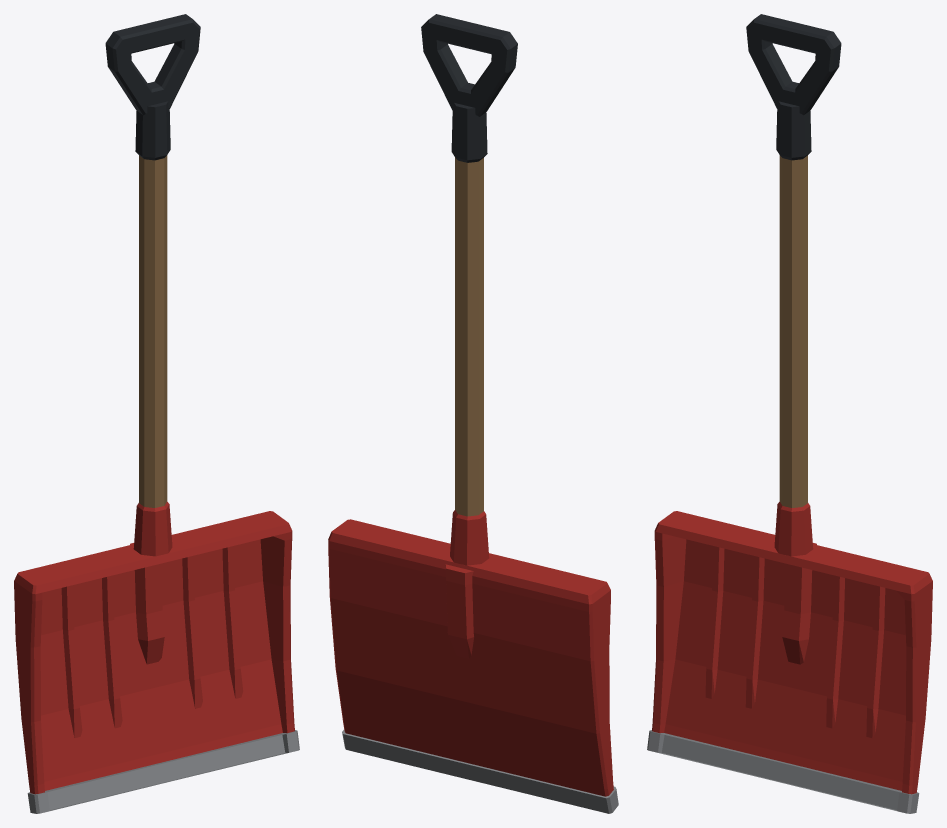
The model's file is snow-shovel-4196ff.glb.
3 views of the same model, side by side, from view 1: azimuth 30°, elevation 25°; view 2: azimuth 150°, elevation 25°; view 3: azimuth 330°, elevation 25° (orthographic).
Parts seen in each view (by area): view 1: snow-shovel-body; view 2: snow-shovel-body; view 3: snow-shovel-body.
Part boxes in pixels (x1=…): snow-shovel-body: x1=14, y1=14, x2=299, y2=813; snow-shovel-body: x1=328, y1=14, x2=618, y2=813; snow-shovel-body: x1=647, y1=14, x2=932, y2=813.
Bounding box in the file's own units: 0.478 × 1.3 × 0.0949.
